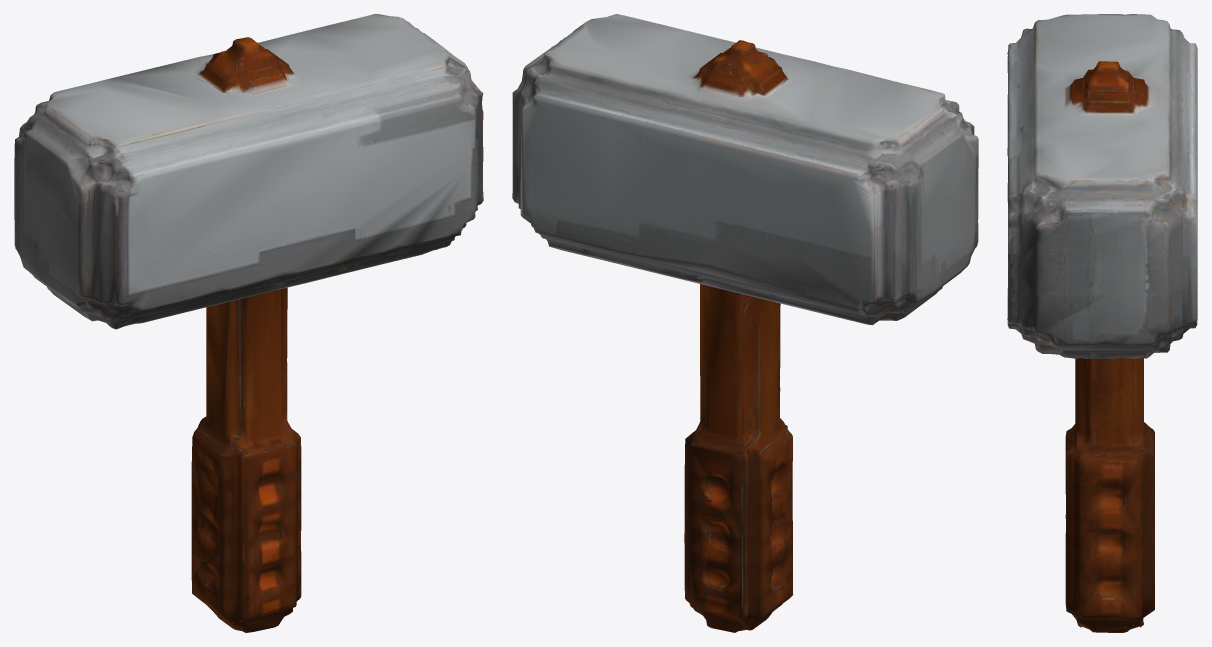
File: hammer.glb
3 renders of one model, left to right at view 1: azimuth 30°, elevation 25°; view 2: azimuth 150°, elevation 25°; view 3: azimuth 270°, elevation 25°, orthographic. The views are drawn at different scales.
Parts seen in each view (by area): view 1: Hammar; view 2: Hammar; view 3: Hammar.
Boxes of the visible parts, x1,y1,x2,y2 form: Hammar: [14, 14, 483, 632]; Hammar: [512, 14, 978, 632]; Hammar: [1007, 14, 1197, 632].
Bounding box in the file's own units: 0.3186 × 0.4379 × 0.1359.
Materials: 1 (1 with a texture image).
